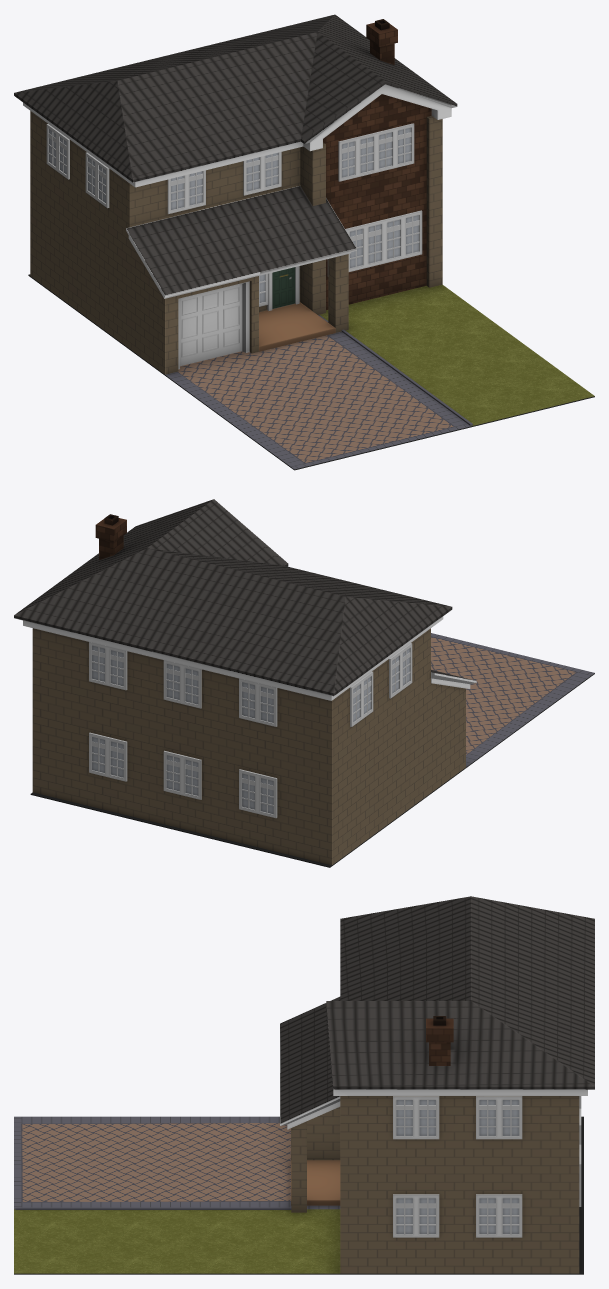
File: HouseWithDriveway.glb
3 views of the same model, one above another, from view 1: azimuth 30°, elevation 25°; view 2: azimuth 150°, elevation 25°; view 3: azimuth 270°, elevation 25° (orthographic). The views are drawn at different scales.
Parts seen in each view (by area): view 1: HouseWithDriveway_Mesh; view 2: HouseWithDriveway_Mesh; view 3: HouseWithDriveway_Mesh.
Part boxes in pixels (<box>): HouseWithDriveway_Mesh: <box>14,14,594,470</box>; HouseWithDriveway_Mesh: <box>14,499,594,867</box>; HouseWithDriveway_Mesh: <box>14,896,594,1274</box>.
Size of the model in its own units: 23.31 by 16.15 by 34.1.
1 material, 1 textured.
